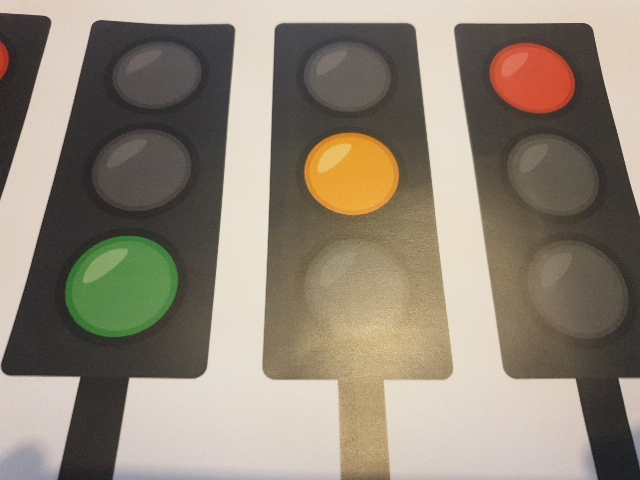amber: (278, 28, 428, 372)
green: (98, 29, 201, 348)
red: (463, 31, 624, 348)
